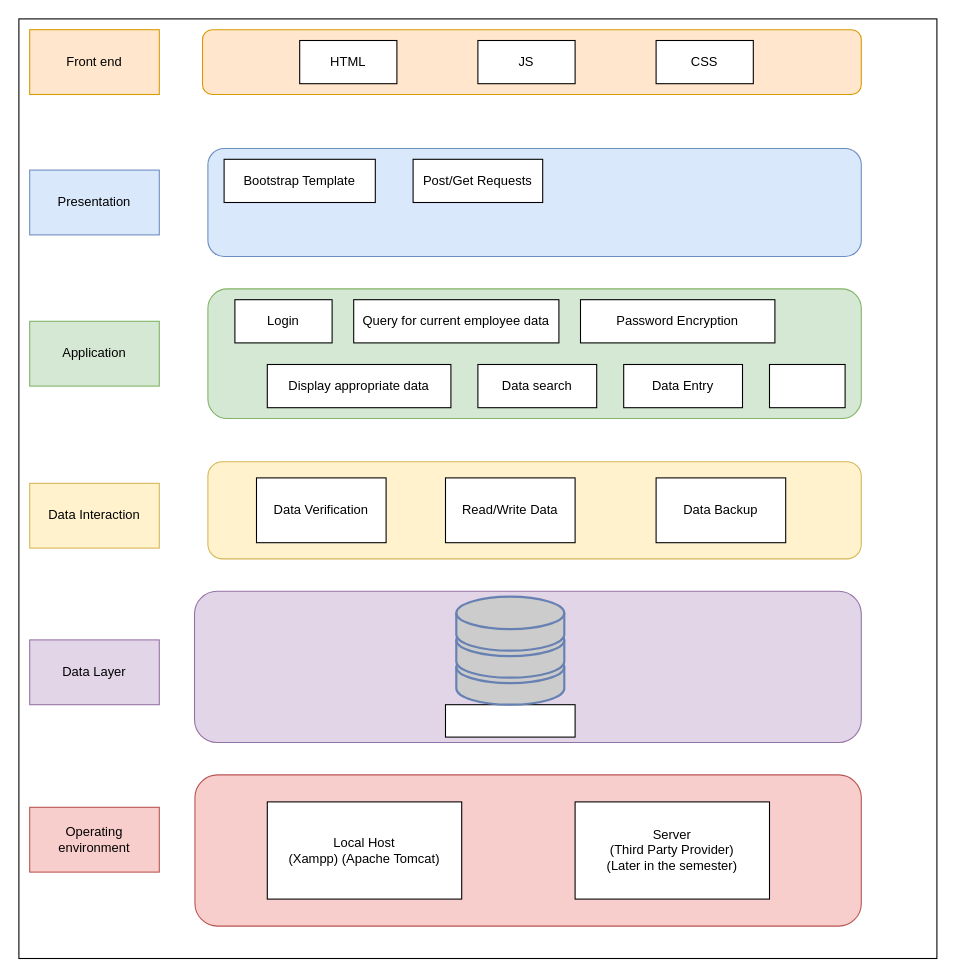
This 956x977 diagram has some shape labels left out. The shapes that lost their labels are listed below. From the top down, each one's centre as x and y in pixels, then its label:
At [806,385]: "Etc...".
At [509,720]: "MyPhpAdmin (SQL)".
